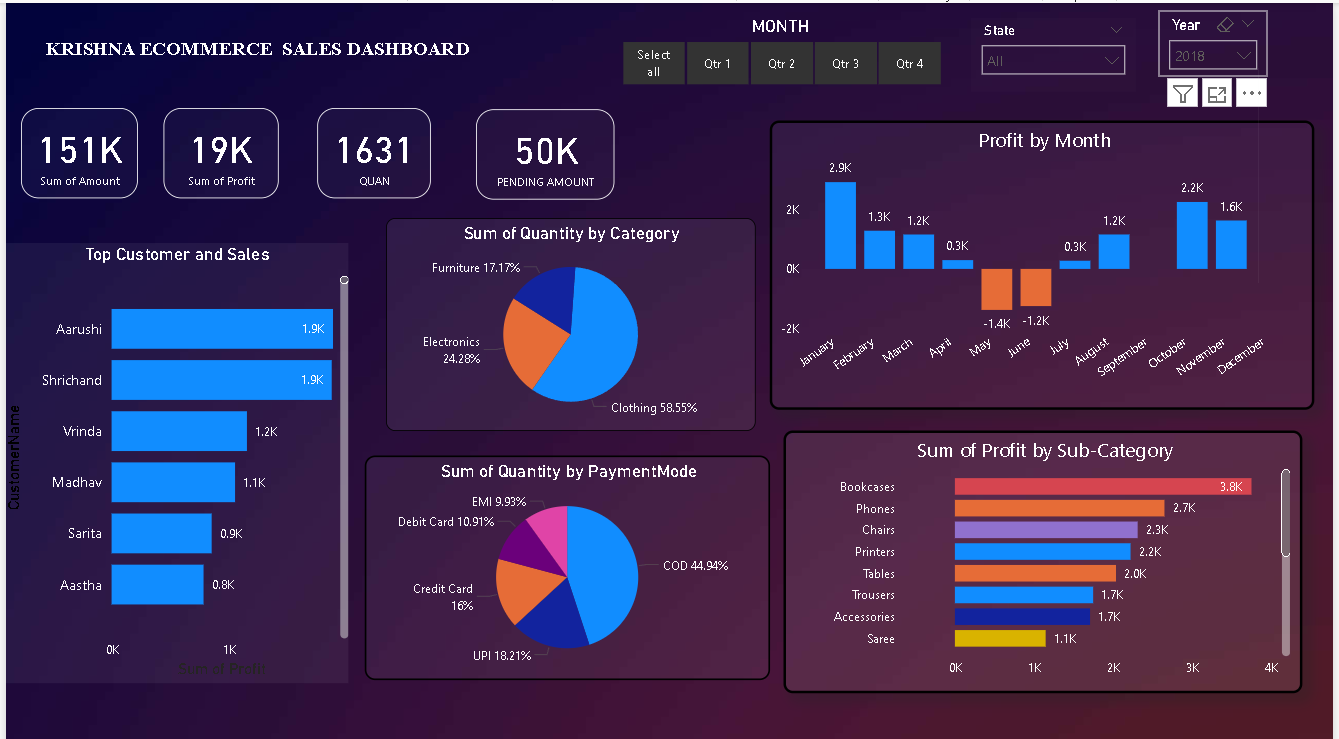

Layout of this report page (visuals, bound fields, positions):
{"tool":"powerbi","page":{"name":"Page 1","canvas":[1280,720],"ordinal":0},"visuals":[{"type":"columnChart","title":"Profit by Month","fields":{"Y":["Details.Profit"],"Category":["Orders.Order Date.Variation.Date Hierarchy.Month"]},"box":[737.7,113.6,525.2,279.3],"z":0},{"type":"textbox","box":[0,29,486.2,42.2],"z":1000},{"type":"card","fields":{"Values":["Details.Amount"]},"box":[14.3,101.2,112.6,86.9],"z":2000},{"type":"card","fields":{"Values":["Details.Profit"]},"box":[152.5,101.2,111.2,86.9],"z":3000},{"type":"card","fields":{"Values":["Details.QUAN"]},"box":[300.8,101.2,109.8,86.9],"z":4000},{"type":"card","fields":{"Values":["Details.PENDING AMOUNT"]},"box":[453.3,102.6,134,86.9],"z":5000},{"type":"slicer","title":"MONTH","fields":{"Values":["Orders.Order Date.Variation.Date Hierarchy.Quarter"]},"box":[570,12.2,356.7,73.3],"z":6000},{"type":"slicer","fields":{"Values":["Orders.Order Date.Variation.Date Hierarchy.Year"]},"box":[1111.8,7.1,105.5,64.1],"z":7000},{"type":"slicer","fields":{"Values":["Order Date.State"]},"box":[931.1,14.4,158.9,71.1],"z":8000},{"type":"clusteredBarChart","fields":{"Y":["Details.Profit"],"Category":["Details.Sub-Category"]},"box":[750.4,412.6,500.7,253.4],"z":9000},{"type":"pieChart","fields":{"Category":["Details.Category"],"Y":["Details.Quantity"]},"box":[366.2,207.1,356.8,205.8],"z":10000},{"type":"clusteredBarChart","title":"Top Customer and Sales","fields":{"Category":["Orders.CustomerName"],"Y":["Details.Profit"]},"box":[0,231.8,330.6,424.6],"z":11000},{"type":"pieChart","fields":{"Category":["Details.PaymentMode"],"Y":["Details.Quantity"]},"box":[346.1,437,391.6,216.5],"z":12000}]}

Visuals, with their boxes in screenshot pixels (x1, y1, x2, y2), scaled from the page's 1280x720 canvas onto the 1339x739 screenshot:
"Profit by Month" columnChart: <bbox>772, 117, 1321, 403</bbox>
textbox: <bbox>0, 30, 509, 73</bbox>
card - Details.Amount: <bbox>15, 104, 133, 193</bbox>
card - Details.Profit: <bbox>160, 104, 276, 193</bbox>
card - Details.QUAN: <bbox>315, 104, 430, 193</bbox>
card - Details.PENDING AMOUNT: <bbox>474, 105, 614, 195</bbox>
"MONTH" slicer: <bbox>596, 13, 969, 88</bbox>
slicer - Orders.Order Date.Variation.Date Hierarchy.Year: <bbox>1163, 7, 1273, 73</bbox>
slicer - Order Date.State: <bbox>974, 15, 1140, 88</bbox>
clusteredBarChart - Details.Profit x Details.Sub-Category: <bbox>785, 423, 1309, 684</bbox>
pieChart - Details.Category x Details.Quantity: <bbox>383, 213, 756, 424</bbox>
"Top Customer and Sales" clusteredBarChart: <bbox>0, 238, 346, 674</bbox>
pieChart - Details.PaymentMode x Details.Quantity: <bbox>362, 449, 772, 671</bbox>
